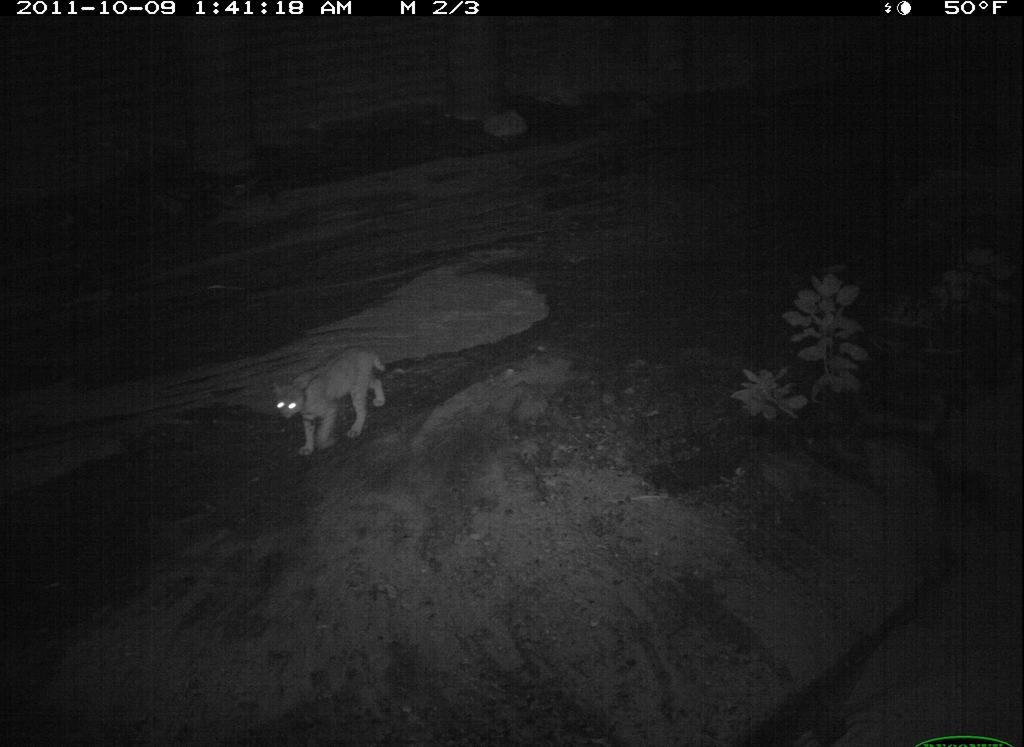bobcat: (268, 337, 400, 468)
